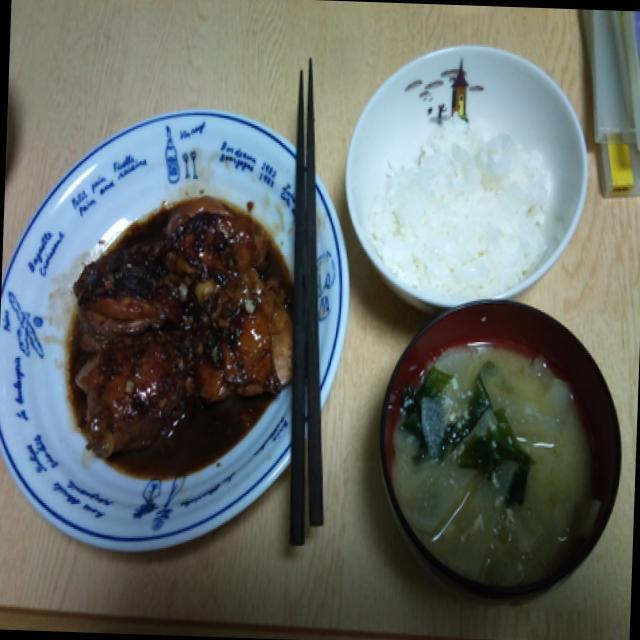Rice: (384, 119, 539, 298)
